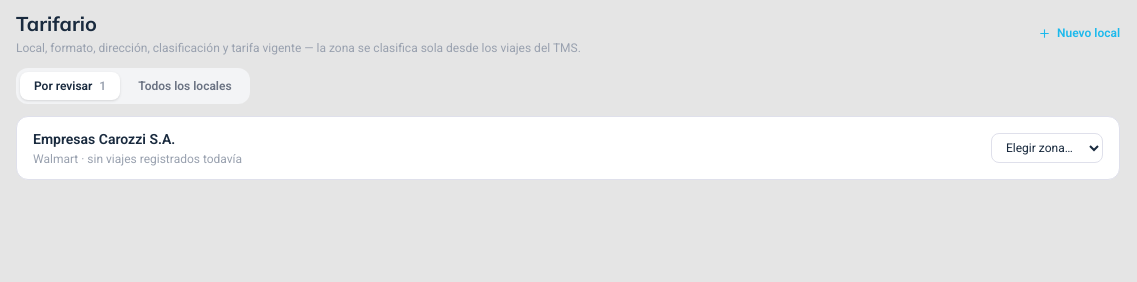
Test case: TarifarioPage › clicking a pending card jumps to "Todos los locales" filtered by that location name
Click the text "Empresas Carozzi S.A.". click: click(104, 139)
box: x1=33 y1=131 x2=175 y2=147
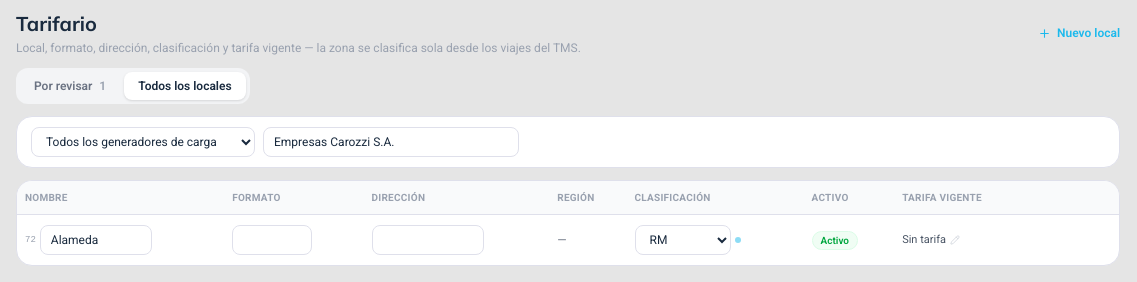
Expected: the button "Todos los locales" is shown, x1=124 y1=72 x2=246 y2=100
Now the field named "Buscar local" holds "Empresas Carozzi S.A.", box x1=263 y1=127 x2=519 y2=157
